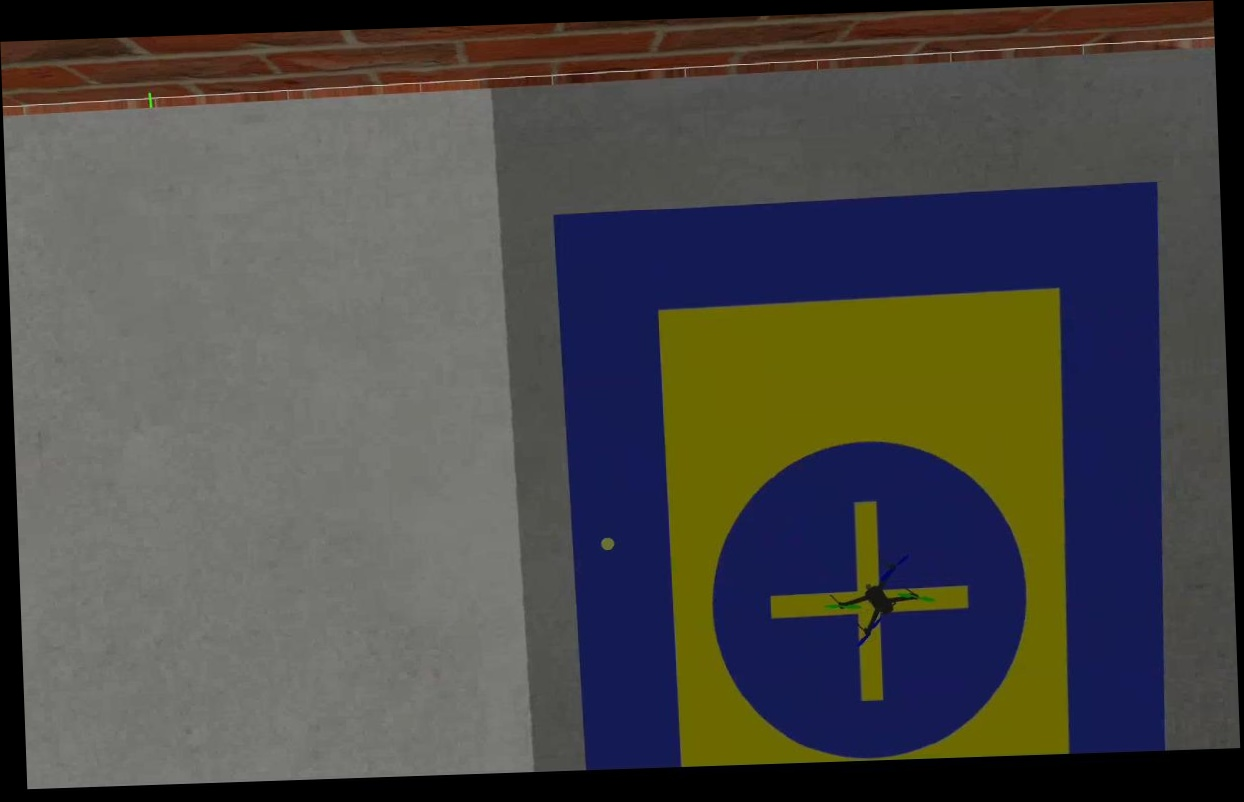large_base: (550, 184, 1177, 778)
